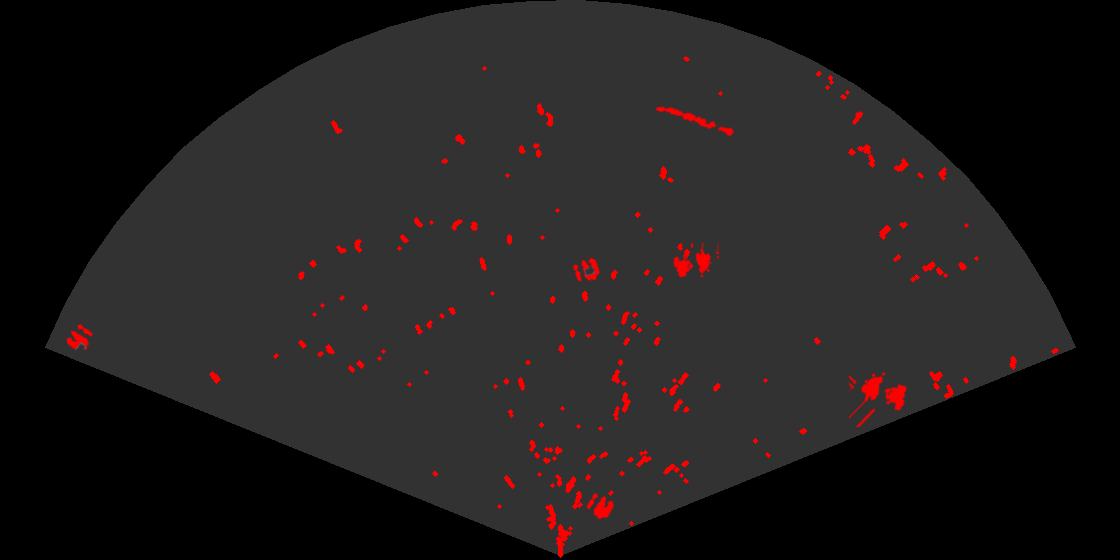ball: (585, 492, 616, 521), (65, 323, 94, 352), (571, 256, 602, 283)
cage: (849, 370, 909, 427), (671, 243, 719, 279)
chain: (654, 105, 740, 138)
